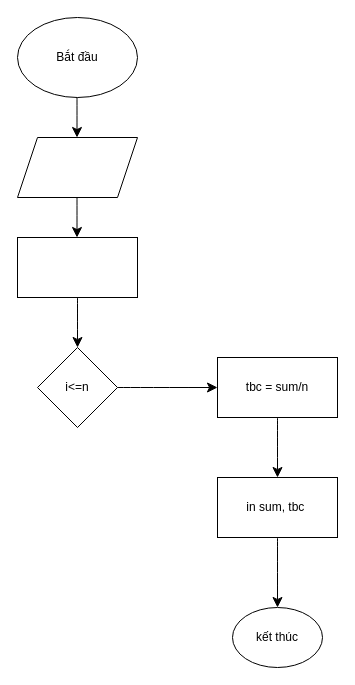
This 355x685 diagram has some shape labels left out. The centre of each missing label's shape, as x and y in pixels:
"Nhập n" belongs at point (77, 167).
"sum = 0, i = 1" belongs at point (77, 267).
